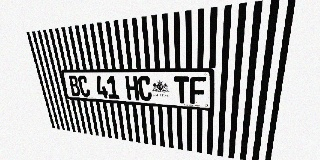1: (105, 76, 119, 99)
4: (95, 76, 108, 98)
B: (68, 75, 81, 96)
C: (137, 76, 152, 101), (77, 76, 91, 97)
F: (190, 76, 206, 105)
H: (125, 76, 139, 100)
T: (174, 76, 189, 104)
